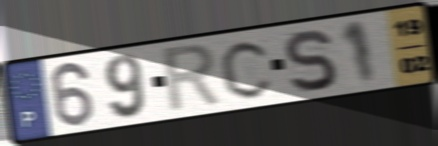1: (338, 18, 379, 88)
6: (48, 60, 96, 129)
9: (104, 51, 151, 121)
C: (218, 37, 275, 101)
R: (161, 40, 225, 116)
S: (281, 27, 340, 96)
